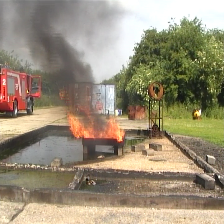fire_h: (68, 99, 124, 142)
